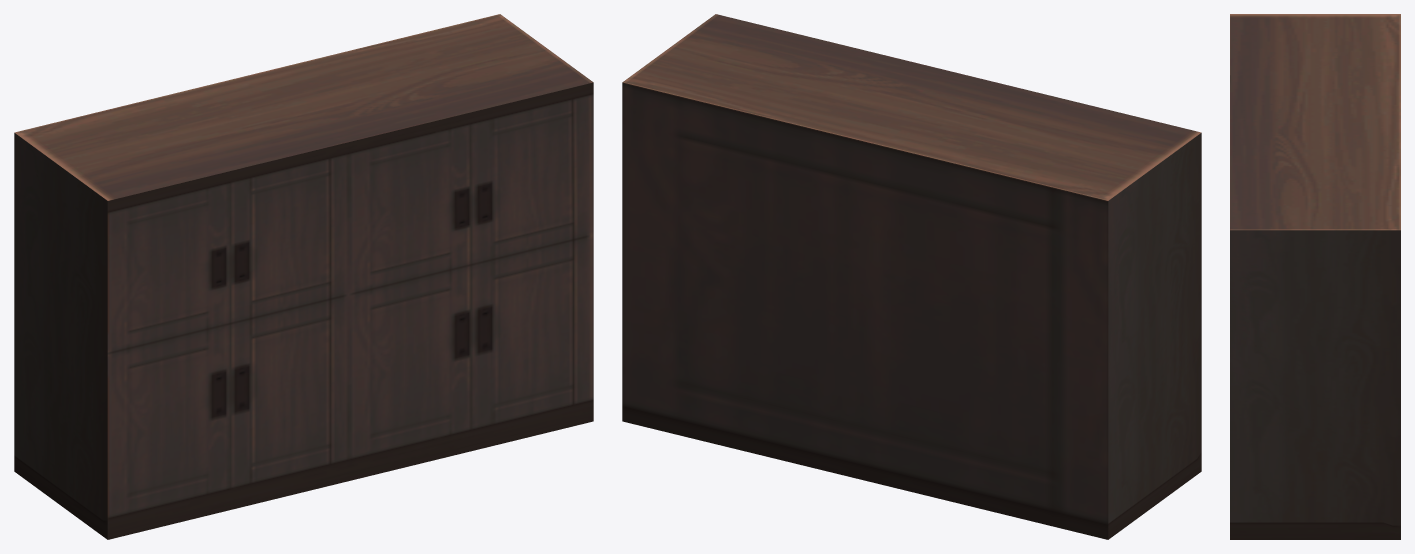
File: drawers_a.fbx
The picture shows the model from 3 angles, left to right: view 1: azimuth 30°, elevation 25°; view 2: azimuth 150°, elevation 25°; view 3: azimuth 270°, elevation 25°; orthographic projection. The views are drawn at different scales.
Parts seen in each view (by area): view 1: drawers_a.001; view 2: drawers_a.001; view 3: drawers_a.001.
Part boxes in pixels (<box>): drawers_a.001: <box>14,14,593,539</box>; drawers_a.001: <box>622,14,1201,539</box>; drawers_a.001: <box>1230,14,1400,539</box>.
Size of the model in its own units: 1.66 by 1.11 by 0.5542.
Materials: 1 (1 with a texture image).
